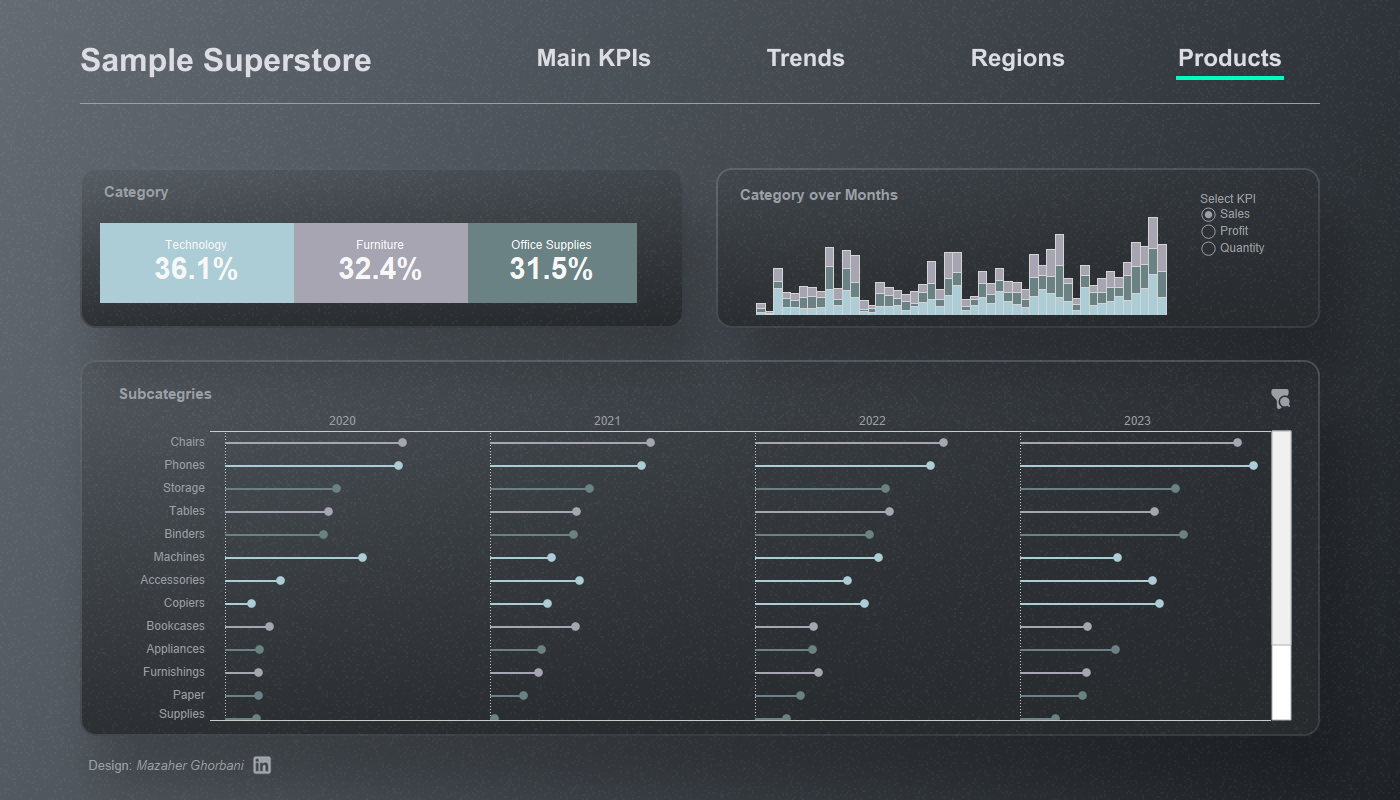

Layout of this report page (visuals, bound fields, positions):
{"tool":"tableau","page":{"name":"Product Analysis","canvas":[1400,800],"ordinal":1},"visuals":[{"type":"image","param":"Image/Product Analysis.png","box":[0,0,1400,800]},{"type":"dashboard-object","box":[1160,136,24,24]},{"type":"worksheet","title":"Reset Filters","mark":"Shape","cols":["Calculation_707909609538879489"],"box":[1216,136,24,24]},{"type":"dashboard-object","box":[1272,136,24,24]},{"type":"filter","title":"Category","param":"[federated.0edz2lz09zrftf18khcru1ptet20].[yr:Order Date:ok]","box":[1120,181,174,54]},{"type":"dashboard-object","box":[64,200,100,64]},{"type":"worksheet","title":"Çategory Stacked","mark":"Bar","rows":["Calculation_707909609555533826"],"cols":["Order Date"],"box":[787,218,508,149]},{"type":"worksheet","title":"Category","mark":"Automatic","cols":["Calculation_707909609555533826"],"box":[221,222,512,150]},{"type":"filter","title":"Category","param":"[federated.0edz2lz09zrftf18khcru1ptet20].[none:Category:nk]","box":[1120,235,174,54]},{"type":"parameter","param":"[Parameters].[Parameter 1]","box":[793,243,137,40]},{"type":"dashboard-object","box":[64,264,100,64]},{"type":"filter","title":"Category","param":"[federated.0edz2lz09zrftf18khcru1ptet20].[none:Sub-Category:nk]","box":[1120,289,174,54]},{"type":"dashboard-object","box":[64,328,100,64]},{"type":"filter","title":"Category","param":"[federated.0edz2lz09zrftf18khcru1ptet20].[none:State/Province:nk]","box":[1120,343,174,54]},{"type":"dashboard-object","box":[64,392,100,64]},{"type":"filter","title":"Category","param":"[federated.0edz2lz09zrftf18khcru1ptet20].[none:City:nk]","box":[1120,397,174,54]},{"type":"worksheet","title":"Subcategries","mark":"Automatic","rows":["Sub-Category"],"cols":["Order Date","Calculation_707909609555533826","Calculation_707909609555533826"],"box":[223,427,1055,263]},{"type":"filter","title":"Category","param":"[federated.0edz2lz09zrftf18khcru1ptet20].[none:Segment:nk]","box":[1120,451,174,54]},{"type":"dashboard-object","box":[64,456,100,64]}]}

Visuals, with their boxes in screenshot pixels (x1, y1, x2, y2), scaled from the page's 1400x800 canvas onto the 1400x800 screenshot:
image: bbox=[0, 0, 1399, 799]
dashboard-object: bbox=[1160, 136, 1184, 160]
"Reset Filters" worksheet (Shape marks): bbox=[1216, 136, 1240, 160]
dashboard-object: bbox=[1272, 136, 1296, 160]
"Category" filter: bbox=[1120, 181, 1294, 235]
dashboard-object: bbox=[64, 200, 164, 264]
"Çategory Stacked" worksheet (Bar marks): bbox=[787, 218, 1295, 367]
"Category" worksheet: bbox=[221, 222, 733, 372]
"Category" filter: bbox=[1120, 235, 1294, 289]
parameter: bbox=[793, 243, 930, 283]
dashboard-object: bbox=[64, 264, 164, 328]
"Category" filter: bbox=[1120, 289, 1294, 343]
dashboard-object: bbox=[64, 328, 164, 392]
"Category" filter: bbox=[1120, 343, 1294, 397]
dashboard-object: bbox=[64, 392, 164, 456]
"Category" filter: bbox=[1120, 397, 1294, 451]
"Subcategries" worksheet: bbox=[223, 427, 1278, 690]
"Category" filter: bbox=[1120, 451, 1294, 505]
dashboard-object: bbox=[64, 456, 164, 520]
